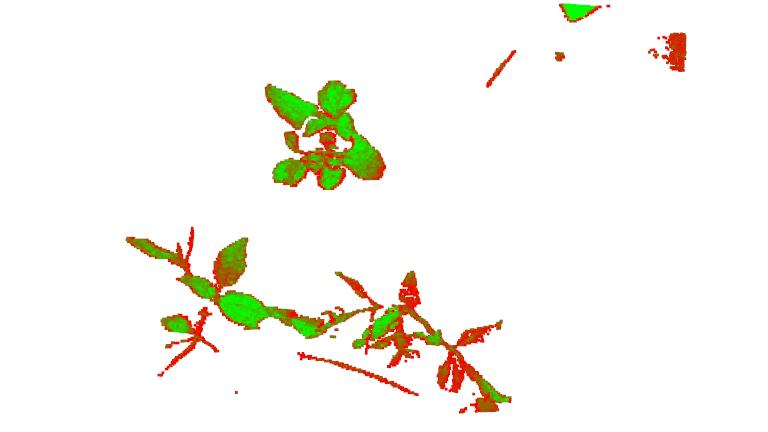mungbean: (275, 268, 515, 415), (125, 225, 270, 380), (266, 75, 388, 191)
